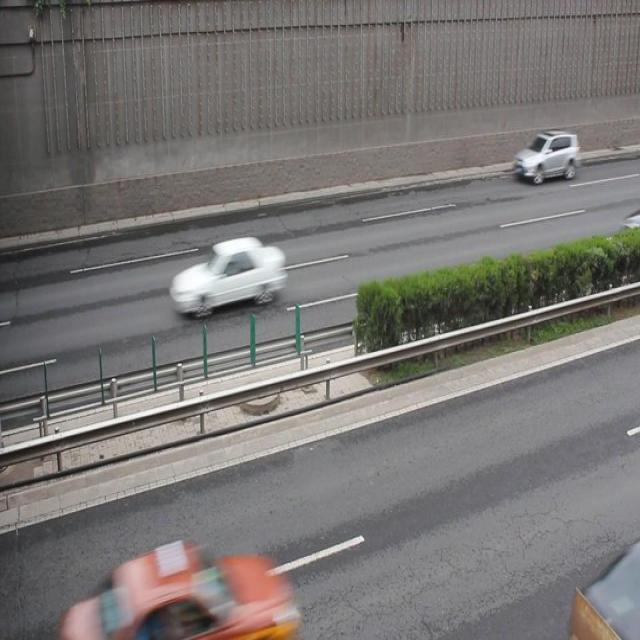car: (62, 535, 296, 640), (170, 238, 285, 314), (578, 534, 640, 640), (514, 130, 580, 185), (620, 205, 640, 241)
